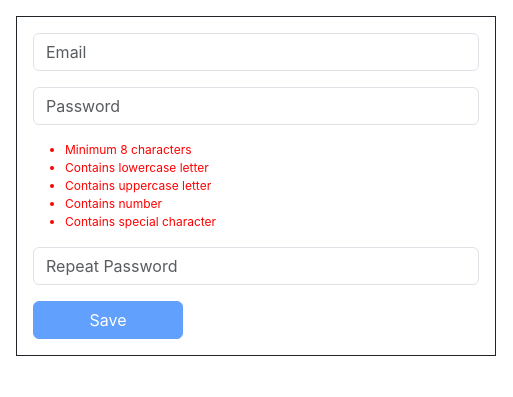
Test: button save should be enabled
The width and height of the screenshot is (513, 397).
In the field with test id "email": (256,52) [33,33,479,71], type "user@email.com"
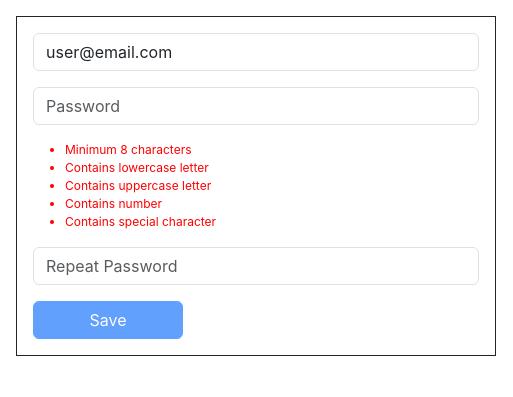
In the password field with test id "password": (256,106) [33,87,479,125], type "Teste11!"
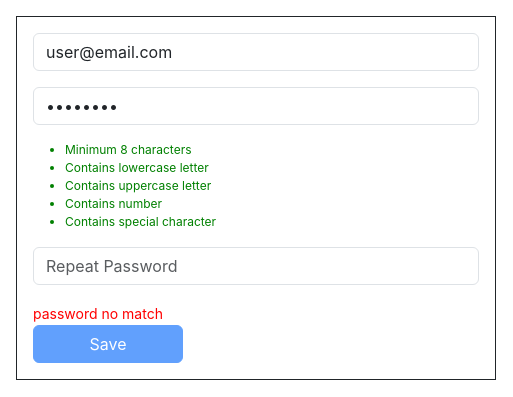
In the password field with test id "repassword": (256,266) [33,247,479,285], type "Teste11!"
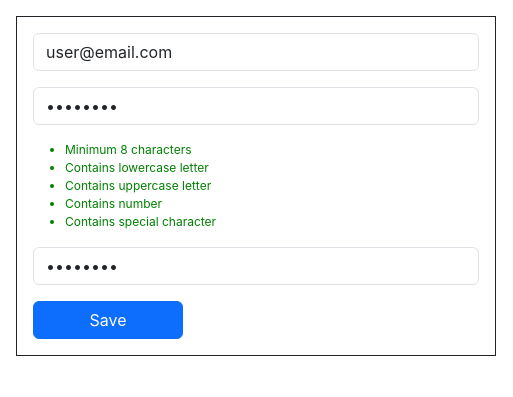
Expected: the button with test id "buttonSave" is enabled, [33,301,183,339]
